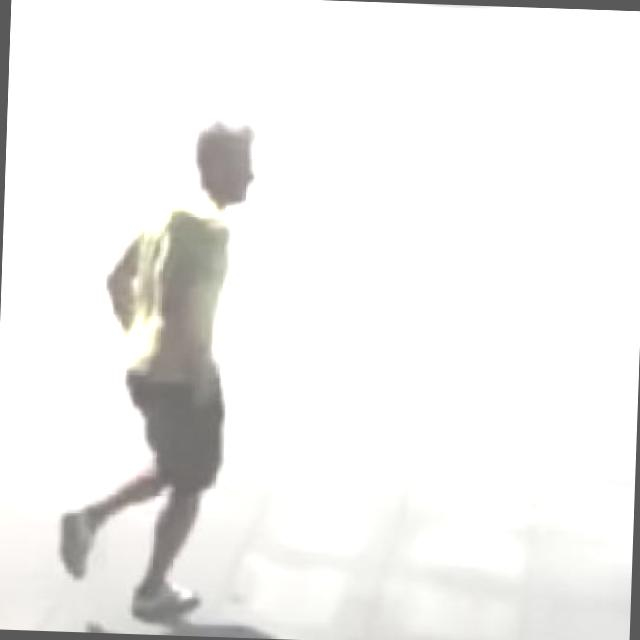Person: (47, 83, 270, 634)
